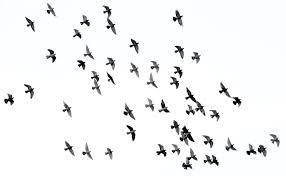bird: (54, 91, 78, 119), (38, 38, 63, 64), (18, 72, 38, 101), (54, 132, 76, 158), (170, 6, 190, 29), (122, 35, 142, 55)
